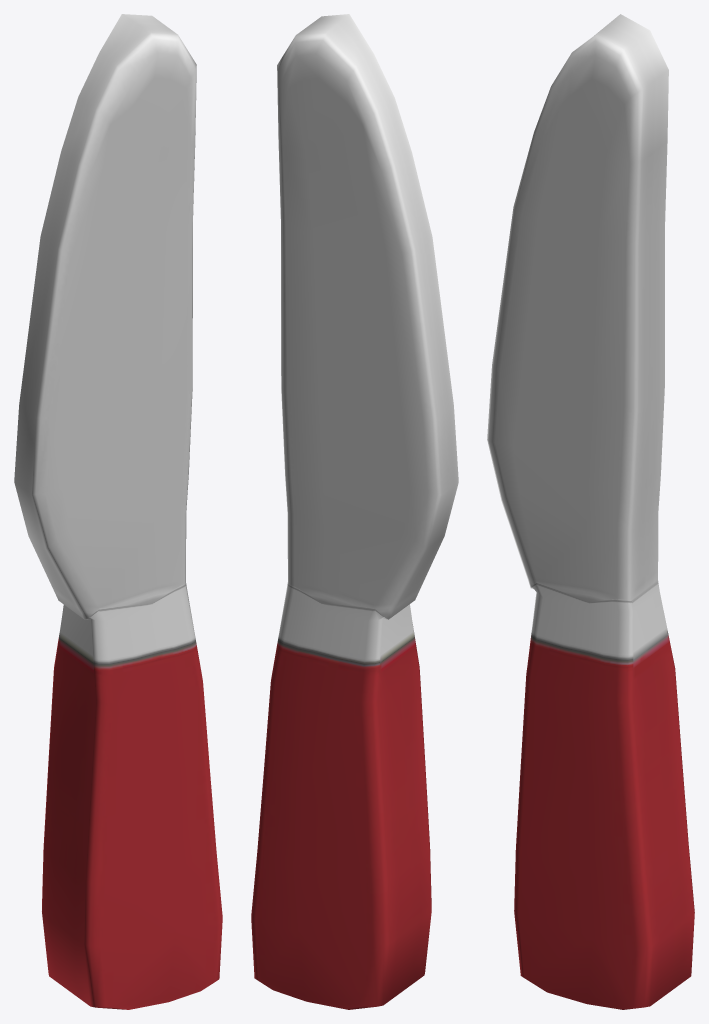
Rendered from knife.fbx.
The picture shows the model from 3 angles, left to right: view 1: azimuth 30°, elevation 25°; view 2: azimuth 150°, elevation 25°; view 3: azimuth 330°, elevation 25°; orthographic projection.
Parts seen in each view (by area): view 1: knife; view 2: knife; view 3: knife.
Part boxes in pixels (x1,y1,x2,y2): knife: [14, 14, 222, 1009]; knife: [251, 14, 458, 1009]; knife: [487, 14, 694, 1009].
Bounding box in the file's own units: 25.38 × 131 × 13.48.
